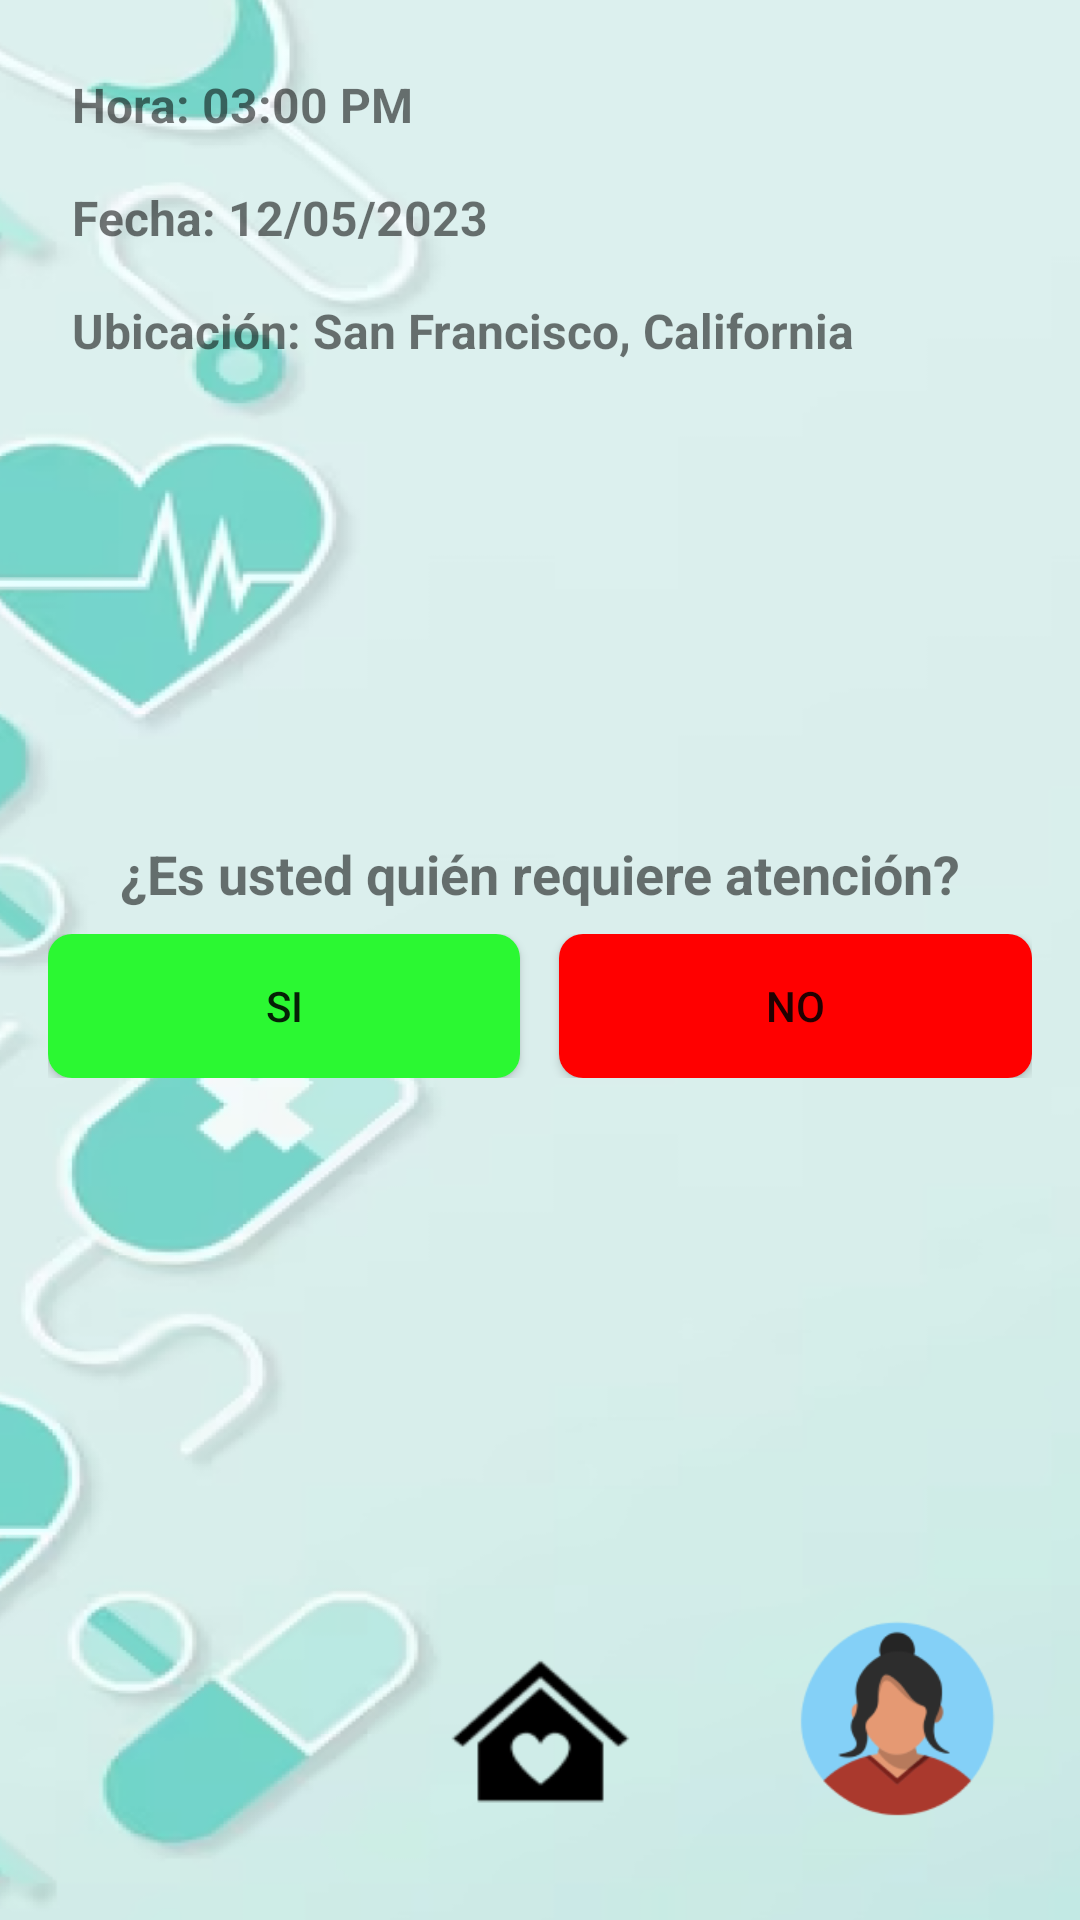

Icon bounding boxes for this 1080w x 1920h phone screenshot, format detection(x1, y1, x2, y2):
home: detection(452, 1661, 629, 1803)
profile: detection(801, 1622, 994, 1816)
